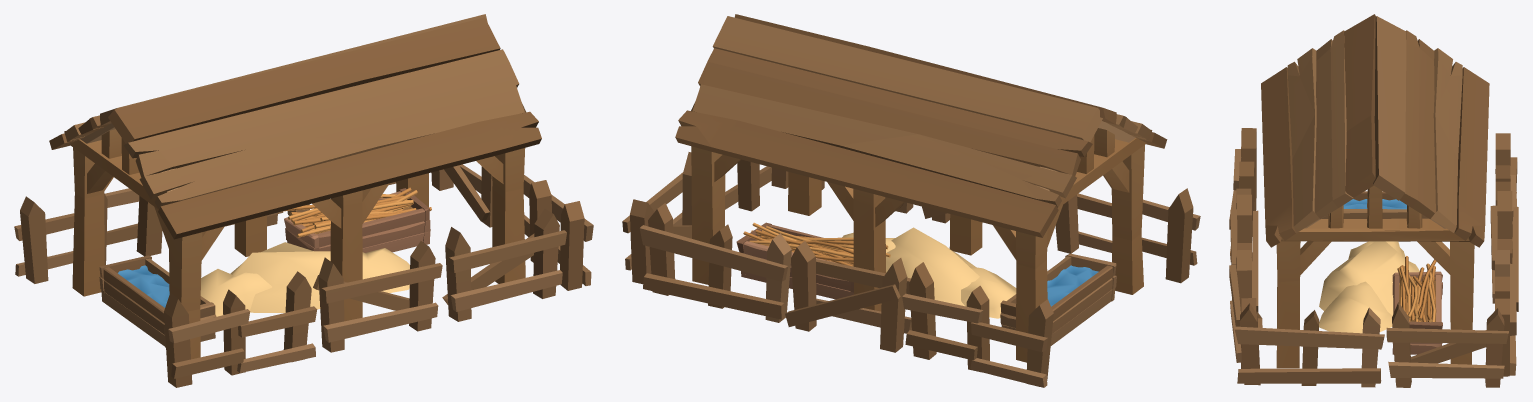
The model's file is House_Stable_A.fbx.
3 views of the same model, side by side, from view 1: azimuth 30°, elevation 25°; view 2: azimuth 150°, elevation 25°; view 3: azimuth 270°, elevation 25° (orthographic). The views are drawn at different scales.
Visible parts, largest first — view 1: House_Stable_A; view 2: House_Stable_A; view 3: House_Stable_A.
Boxes of the visible parts, x1,y1,x2,y2 form: House_Stable_A: (14,14,593,387); House_Stable_A: (622,14,1200,387); House_Stable_A: (1229,14,1518,387).
Size of the model in its own units: 576 by 288 by 375.
